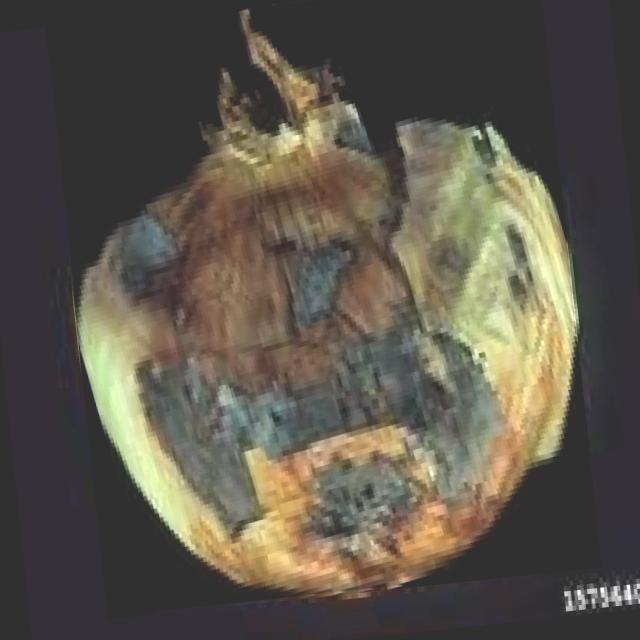rotten: (78, 8, 576, 592)
